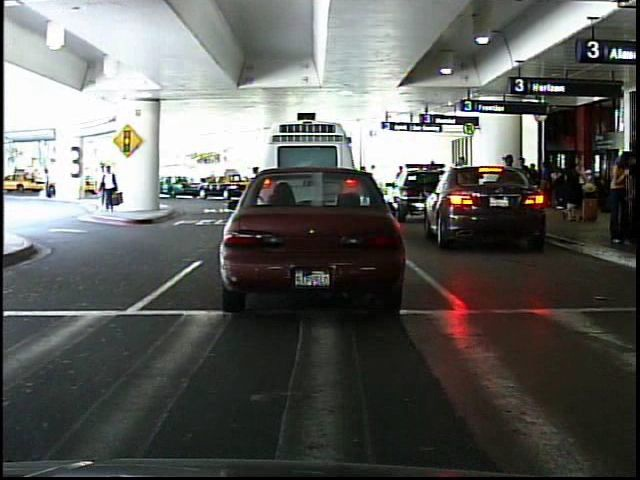person: (93, 157, 128, 214), (43, 164, 59, 203)
